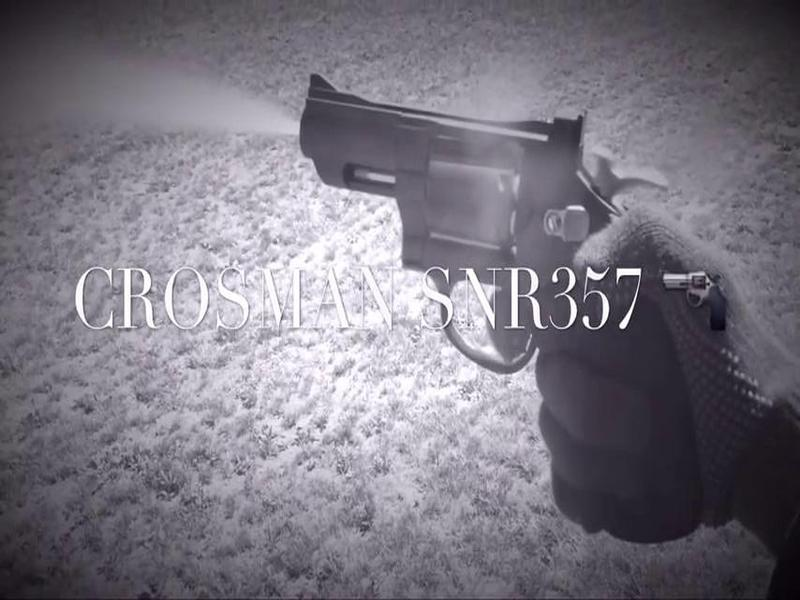Revolver: (276, 57, 648, 364)
